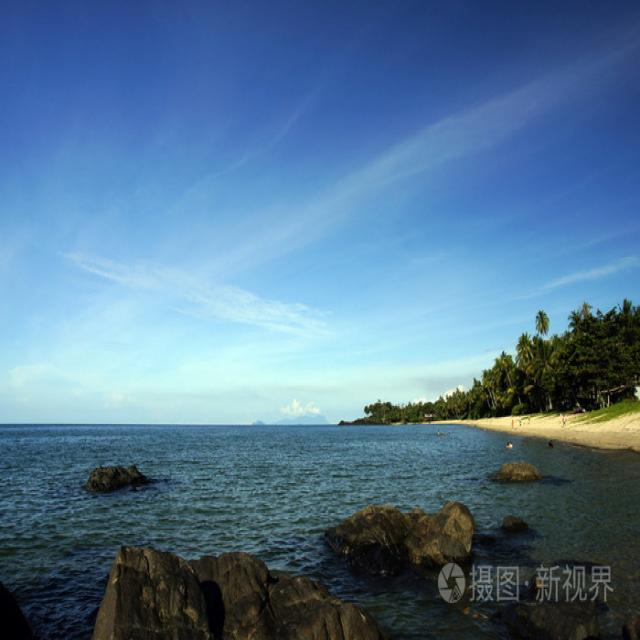reef: (317, 453, 568, 589), (74, 508, 336, 638), (74, 435, 195, 499)
